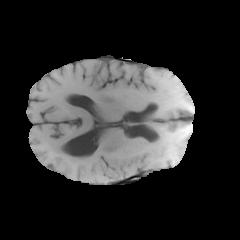glioma: (52, 122, 189, 181)
